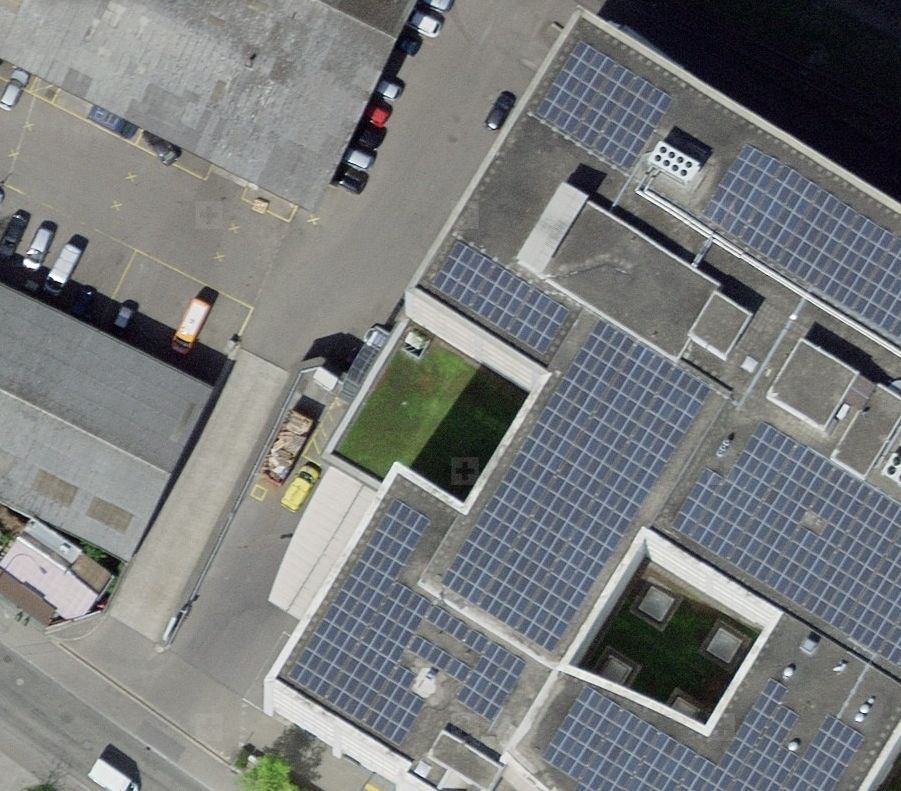solar: (289, 42, 899, 791), (432, 240, 711, 655), (675, 417, 901, 656), (701, 142, 901, 338), (543, 681, 862, 791), (533, 39, 672, 175), (431, 239, 569, 357)
